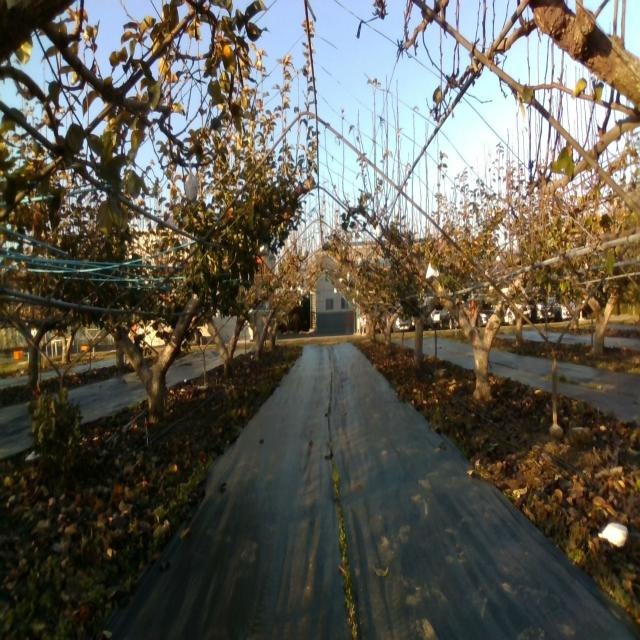pearbags: (183, 163, 199, 206)
